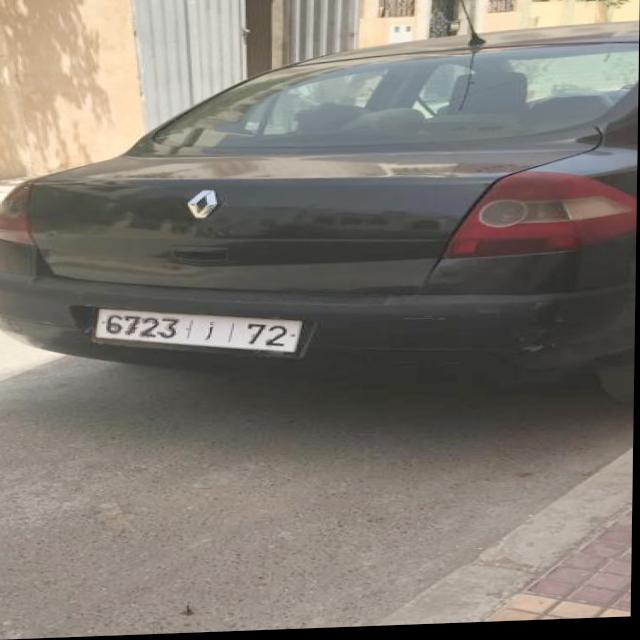License-Plate: (99, 309, 303, 354)
